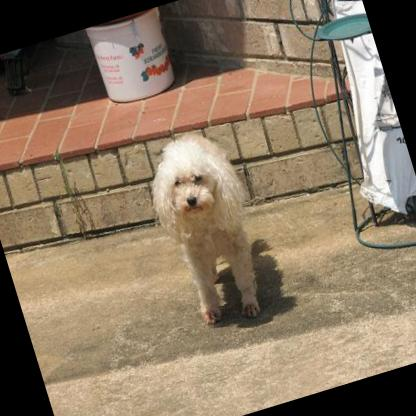toy_poodle: (132, 119, 280, 335)
